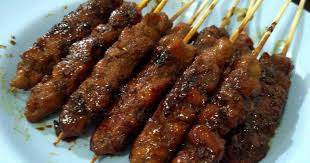sate: (13, 3, 291, 163)
